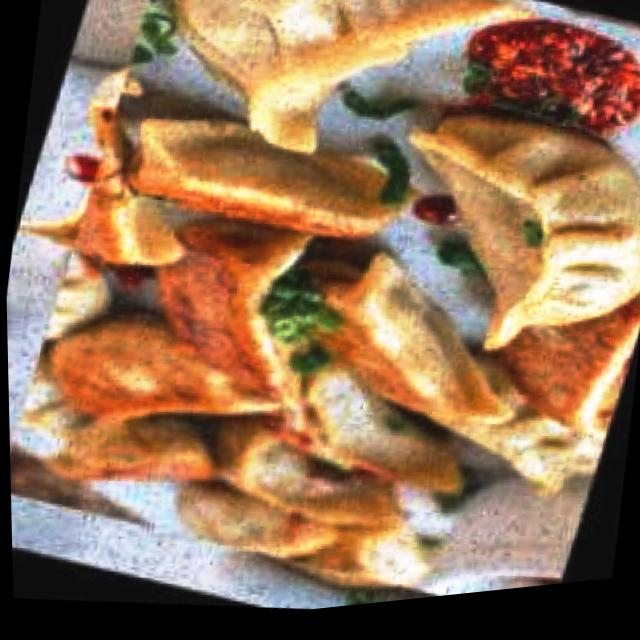fried_dumplings: (383, 90, 640, 383), (145, 0, 510, 193), (118, 87, 405, 274), (309, 231, 537, 445), (37, 284, 290, 458), (146, 209, 325, 419), (256, 351, 479, 515), (212, 412, 407, 546), (45, 398, 223, 507), (177, 468, 349, 577)
